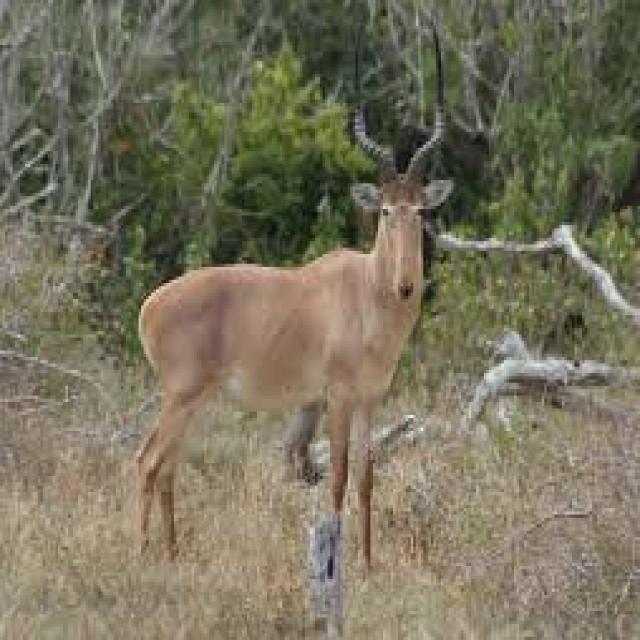Antelope: (119, 22, 452, 590)
